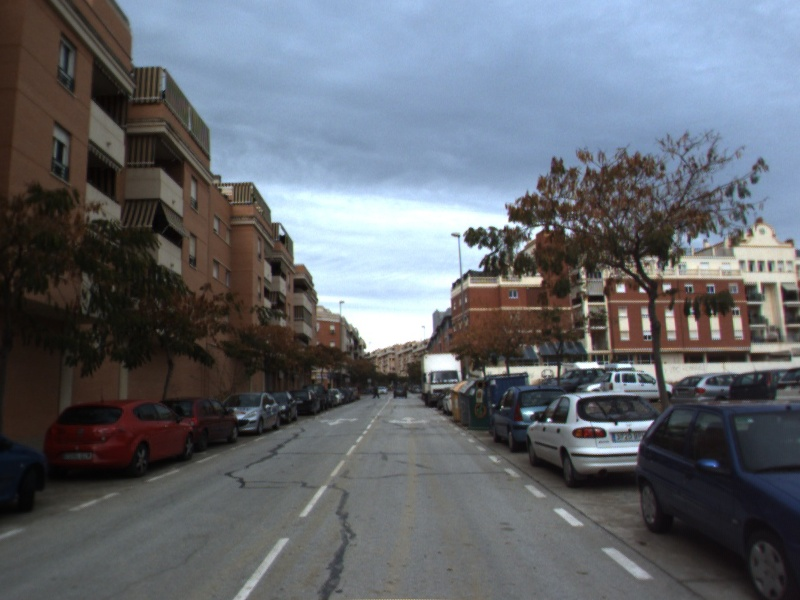STRAIGHT_LEFT_RIGHT: (386, 414, 433, 426)
